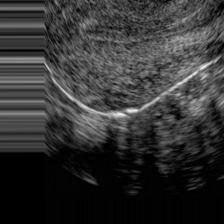no-pcos: (46, 2, 224, 172)
